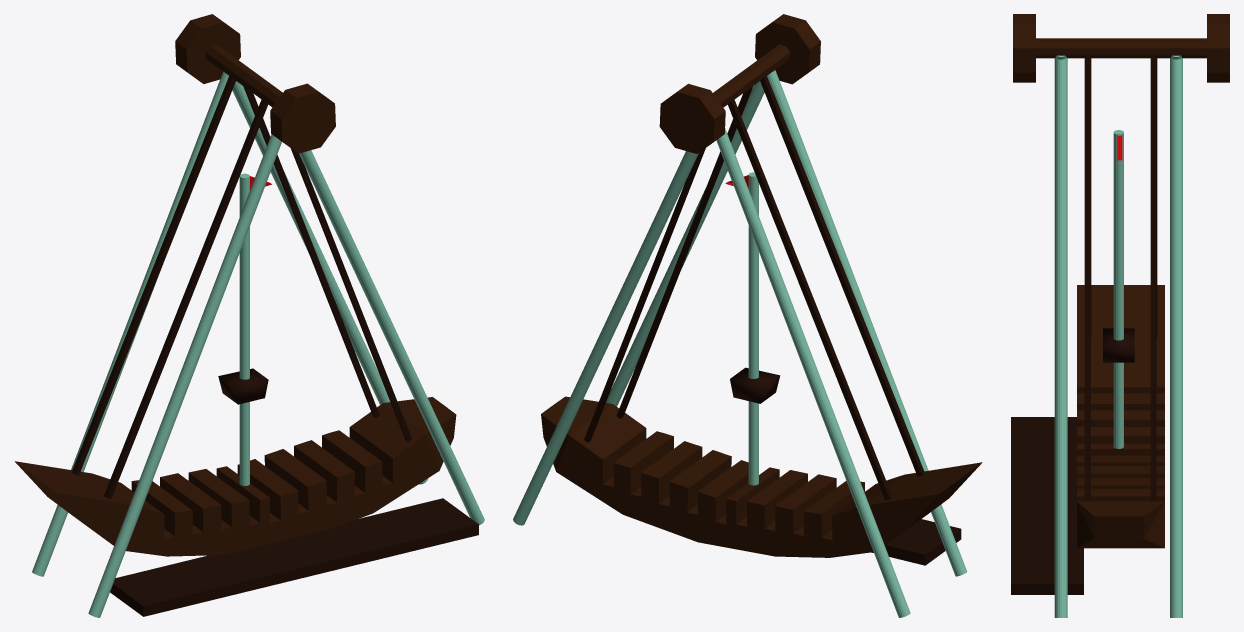
The model's file is pirateRide.obj.
The picture shows the model from 3 angles, left to right: view 1: azimuth 30°, elevation 25°; view 2: azimuth 150°, elevation 25°; view 3: azimuth 270°, elevation 25°; orthographic projection. The views are drawn at different scales.
Visible parts, largest first — view 1: Boat, Stand; view 2: Boat, Stand; view 3: Stand, Boat.
Part boxes in pixels (x1,y1,x2,y2): Boat: (14,73,456,556); Stand: (32,14,484,617); Boat: (541,74,982,557); Stand: (513,14,967,617); Stand: (1011,14,1229,617); Boat: (1077,56,1164,548).
Bounding box in the file's own units: 13.7 × 15.45 × 6.07.
